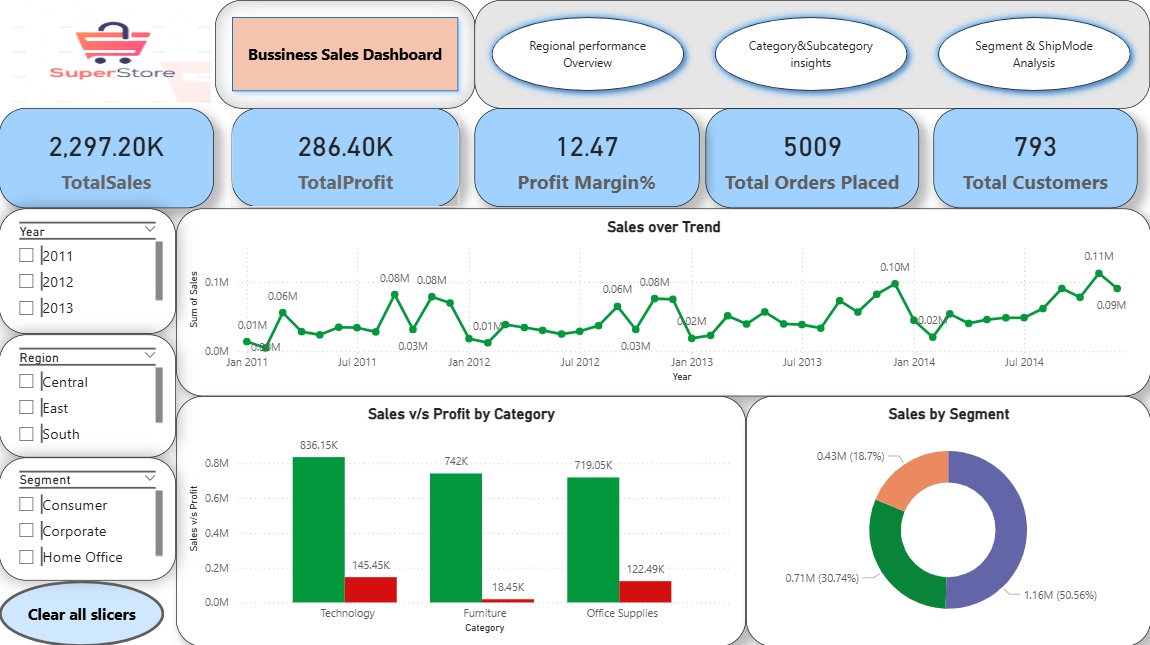

What the dashboard file says about the page in this screenshot:
{"tool":"powerbi","page":{"name":"Sales Dashboard","canvas":[1280,720],"ordinal":0},"visuals":[{"type":"card","fields":{"Values":["Orders.TotalSales"]},"box":[0,120.8,238.9,111.5],"z":0},{"type":"card","fields":{"Values":["Orders.TotalProfit"]},"box":[258,120,254,110],"z":1000},{"type":"card","fields":{"Values":["Orders.Total Orders Placed"]},"box":[785.8,120.8,237.6,111.5],"z":2000},{"type":"card","fields":{"Values":["Orders.Total CUstomers"]},"box":[1038,120.8,227,111.5],"z":3000},{"type":"card","fields":{"Values":["Orders.ProfitMargin"]},"box":[528,120,250,110],"z":4000},{"type":"shape","box":[239.3,0,289.4,120.4],"z":5000},{"type":"lineChart","title":"Sales over Trend","fields":{"Y":["Sum(Orders.Sales)"],"Category":["Orders.Order Date.Variation.Date Hierarchy.Year","Orders.Order Date.Variation.Date Hierarchy.Quarter","Orders.Order Date.Variation.Date Hierarchy.Month"]},"box":[196.4,232.3,1083.1,208.4],"z":6000},{"type":"clusteredColumnChart","title":"Sales v/s Profit by Category","fields":{"Y":["Sum(Orders.Sales)","Sum(Orders.Profit)"],"Category":["Orders.Category"]},"box":[196.4,440.7,633.1,278.7],"z":7000},{"type":"donutChart","title":"Sales by Segment","fields":{"Y":["Sum(Orders.Sales)"],"Category":["Orders.Segment"]},"box":[829.6,440.7,450,278.7],"z":8000},{"type":"slicer","fields":{"Values":["Orders.Order Date.Variation.Date Hierarchy.Year"]},"box":[0,232.3,196.4,139.4],"z":9000},{"type":"slicer","fields":{"Values":["Orders.Region"]},"box":[0,371.7,196.4,136.7],"z":10000},{"type":"slicer","fields":{"Values":["Orders.Segment"]},"box":[0,508.4,196.4,136.7],"z":11000},{"type":"pageNavigator","box":[528.7,0,750.8,120.4],"z":12000},{"type":"actionButton","box":[0,645.4,183.6,73.8],"z":13000},{"type":"image","box":[0,0,240,120],"z":14000}]}

Visuals, with their boxes in screenshot pixels (x1, y1, x2, y2), scaled from the page's 1280x720 canvas onto the 1150x645 screenshot:
card - Orders.TotalSales: [0,108,215,208]
card - Orders.TotalProfit: [232,108,460,206]
card - Orders.Total Orders Placed: [706,108,919,208]
card - Orders.Total CUstomers: [933,108,1137,208]
card - Orders.ProfitMargin: [474,108,699,206]
shape: [215,0,475,108]
"Sales over Trend" lineChart: [176,208,1149,395]
"Sales v/s Profit by Category" clusteredColumnChart: [176,395,745,644]
"Sales by Segment" donutChart: [745,395,1149,644]
slicer - Orders.Order Date.Variation.Date Hierarchy.Year: [0,208,176,333]
slicer - Orders.Region: [0,333,176,455]
slicer - Orders.Segment: [0,455,176,578]
pageNavigator: [475,0,1149,108]
actionButton: [0,578,165,644]
image: [0,0,216,108]
